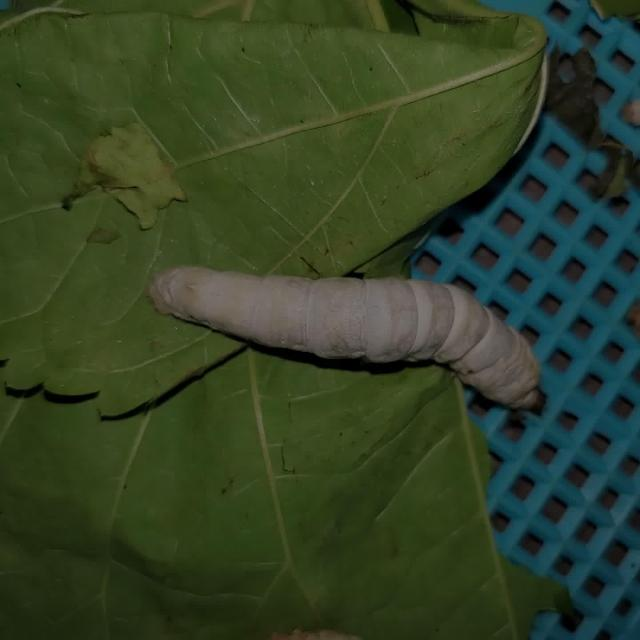Grasserie: (116, 208, 579, 464)
